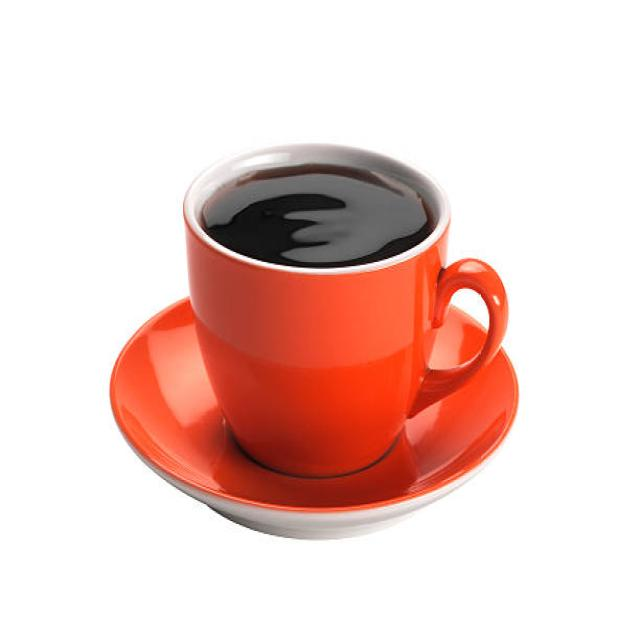Red_cup: (185, 145, 508, 477)
